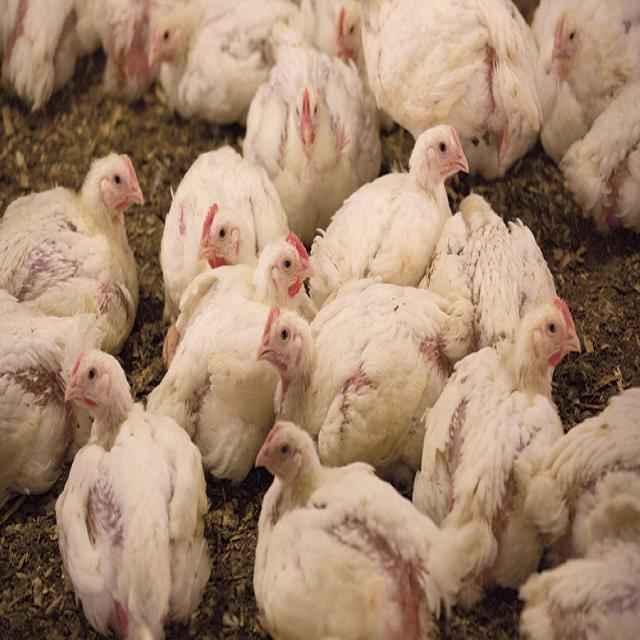poussin: (256, 420, 480, 640), (407, 306, 590, 548), (62, 348, 210, 632), (160, 236, 318, 454), (250, 301, 460, 460), (372, 0, 541, 187), (310, 121, 474, 306), (525, 395, 640, 639), (0, 152, 146, 316), (529, 0, 640, 215), (410, 205, 573, 345), (152, 148, 292, 296), (247, 50, 376, 210), (0, 290, 93, 500), (145, 8, 298, 114), (310, 5, 396, 86)
